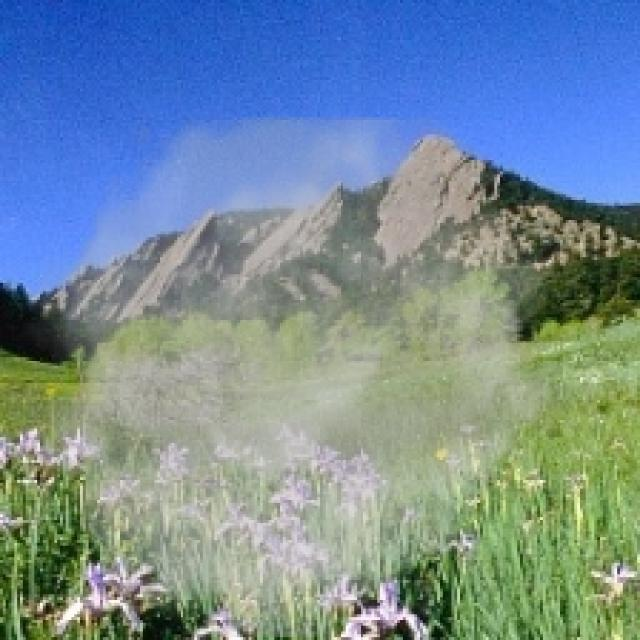Smoke: (14, 117, 574, 637)
